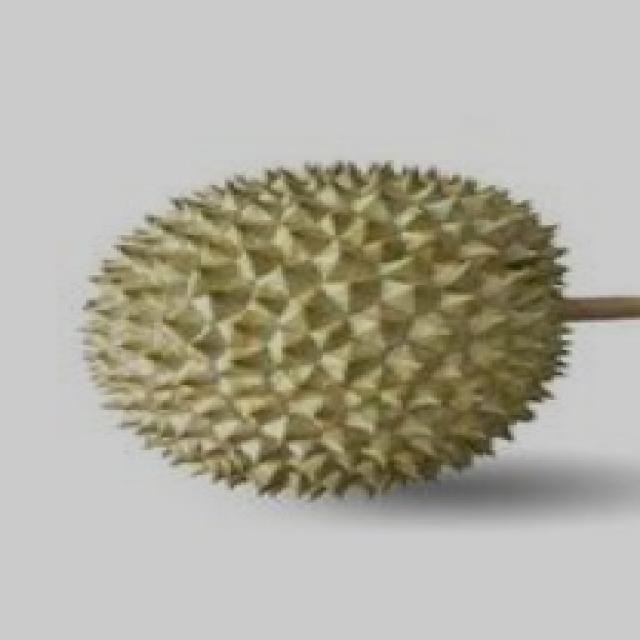fruit: (290, 127, 616, 555), (34, 190, 388, 580)
